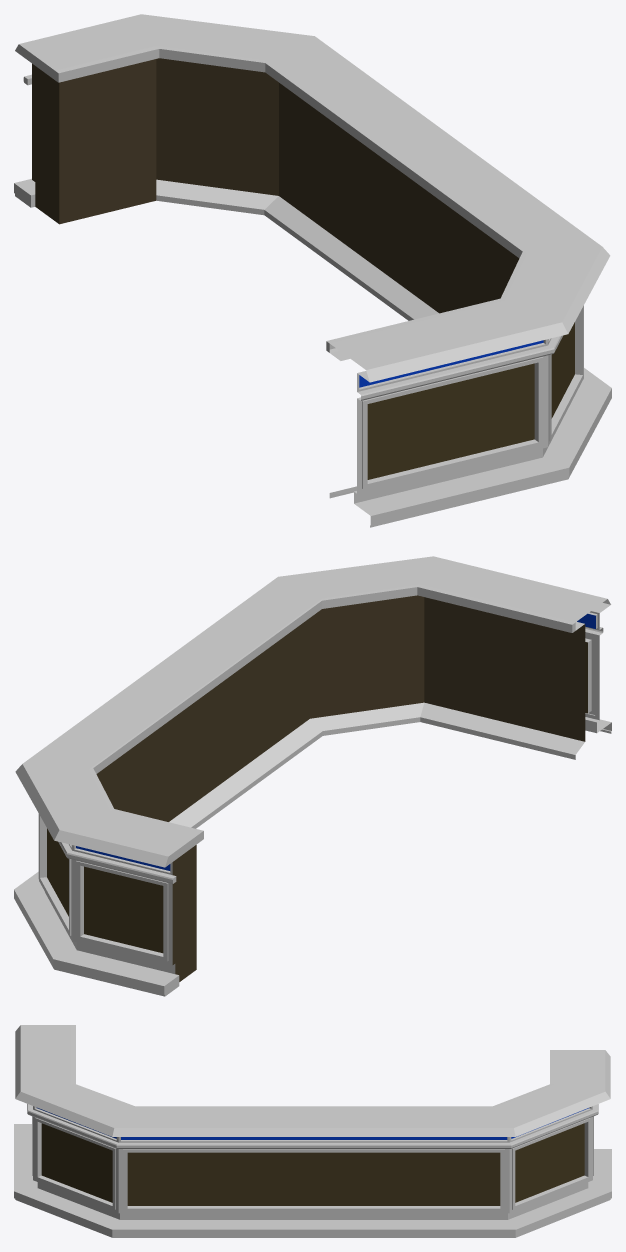
Rendered from BarraBar.fbx.
3 renders of one model, top to bottom at view 1: azimuth 30°, elevation 25°; view 2: azimuth 150°, elevation 25°; view 3: azimuth 270°, elevation 25°, orthographic. The views are drawn at different scales.
Visible parts, largest first — view 1: Cube.006; view 2: Cube.006; view 3: Cube.006.
Boxes of the visible parts, bbox=[...] form: Cube.006: bbox=[14, 14, 611, 527]; Cube.006: bbox=[14, 556, 611, 996]; Cube.006: bbox=[14, 1025, 611, 1237].
Bounding box in the file's own units: 264 × 125 × 631.
